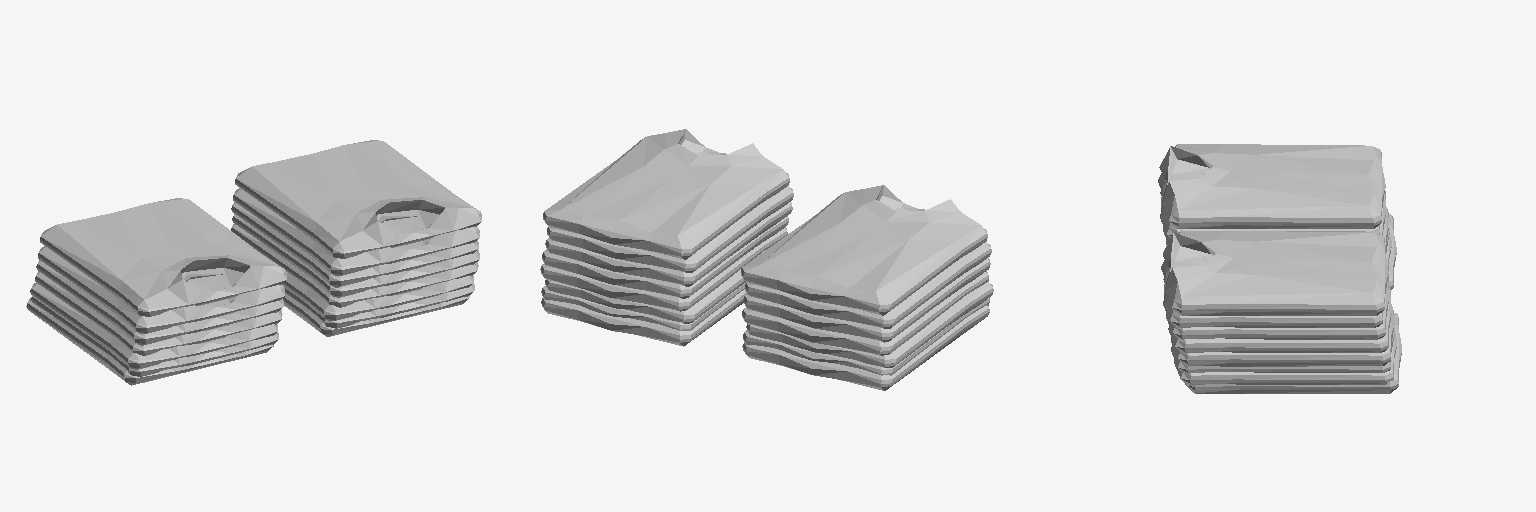
Rendered from t-shirts.obj.
The picture shows the model from 3 angles: view 1: azimuth 30°, elevation 25°; view 2: azimuth 150°, elevation 25°; view 3: azimuth 270°, elevation 25°; orthographic projection.
Visible parts, largest first — view 1: group[number redacted], group[number redacted], group[number redacted], group[number redacted], group[number redacted], group[number redacted], group[number redacted], group[number redacted], group[number redacted], group[number redacted], group[number redacted], group[number redacted] (+3 smaller); view 2: group[number redacted], group[number redacted], group[number redacted], group[number redacted], group[number redacted], group[number redacted], group[number redacted], group[number redacted], group[number redacted], group[number redacted], group[number redacted], group[number redacted] (+3 smaller); view 3: group[number redacted], group[number redacted], group[number redacted], group[number redacted], group[number redacted], group[number redacted], group[number redacted], group[number redacted], group[number redacted], group[number redacted].
Boxes of the visible parts, box(x1,y1,x2,y2) form: group[number redacted]: box(235, 140, 481, 258); group[number redacted]: box(40, 198, 286, 316); group[number redacted]: box(38, 246, 284, 333); group[number redacted]: box(233, 188, 479, 275); group[number redacted]: box(30, 283, 277, 369); group[number redacted]: box(231, 202, 478, 287); group[number redacted]: box(36, 260, 283, 345); group[number redacted]: box(35, 271, 282, 355); group[number redacted]: box(232, 214, 479, 297); group[number redacted]: box(231, 224, 478, 307); group[number redacted]: box(282, 272, 473, 320); group[number redacted]: box(26, 297, 273, 385); group[number redacted]: box(543, 129, 789, 259); group[number redacted]: box(741, 185, 987, 315); group[number redacted]: box(547, 185, 793, 272); group[number redacted]: box(745, 241, 991, 328); group[number redacted]: box(742, 305, 989, 390); group[number redacted]: box(742, 271, 988, 355); group[number redacted]: box(545, 202, 792, 286); group[number redacted]: box(743, 257, 990, 342); group[number redacted]: box(746, 281, 993, 367); group[number redacted]: box(540, 227, 787, 311); group[number redacted]: box(542, 216, 788, 298); group[number redacted]: box(541, 289, 746, 346); group[number redacted]: box(1163, 230, 1388, 315); group[number redacted]: box(1159, 144, 1385, 228); group[number redacted]: box(1171, 287, 1394, 366); group[number redacted]: box(1168, 279, 1391, 353); group[number redacted]: box(1161, 258, 1386, 327); group[number redacted]: box(1174, 307, 1396, 385); group[number redacted]: box(1163, 277, 1388, 339); group[number redacted]: box(1184, 313, 1401, 393); group[number redacted]: box(1171, 330, 1394, 373); group[number redacted]: box(1158, 171, 1383, 237).
Size of the model in its own units: 1.54 by 0.474 by 0.9213.